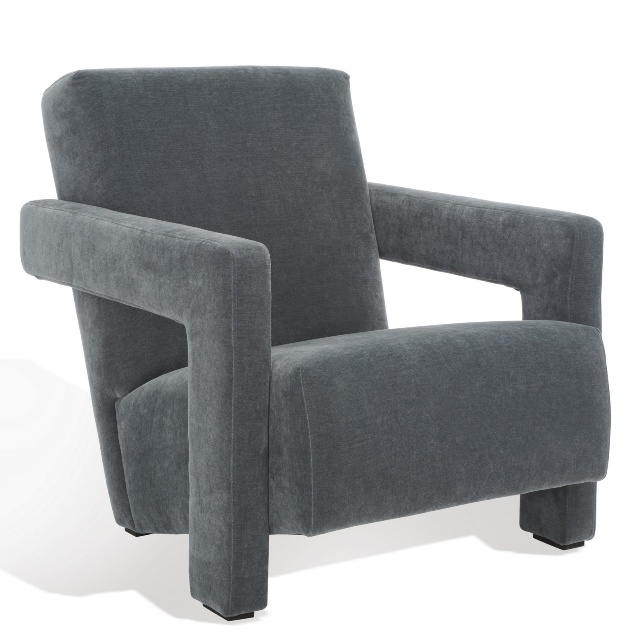obstacle: (21, 67, 609, 619)
